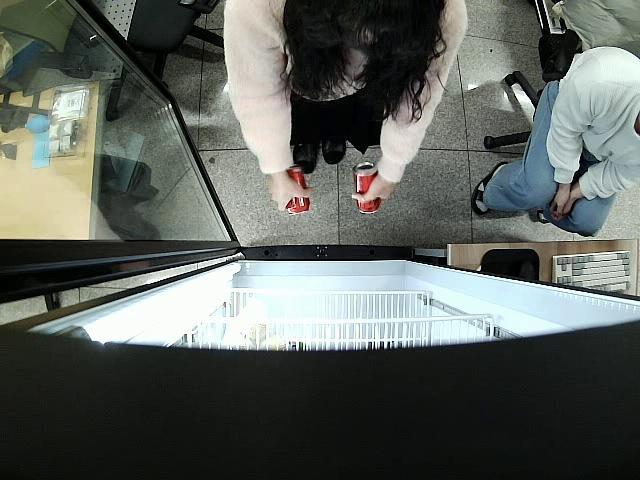11_cocaColaZero: (282, 165, 314, 216), (354, 162, 381, 216)
